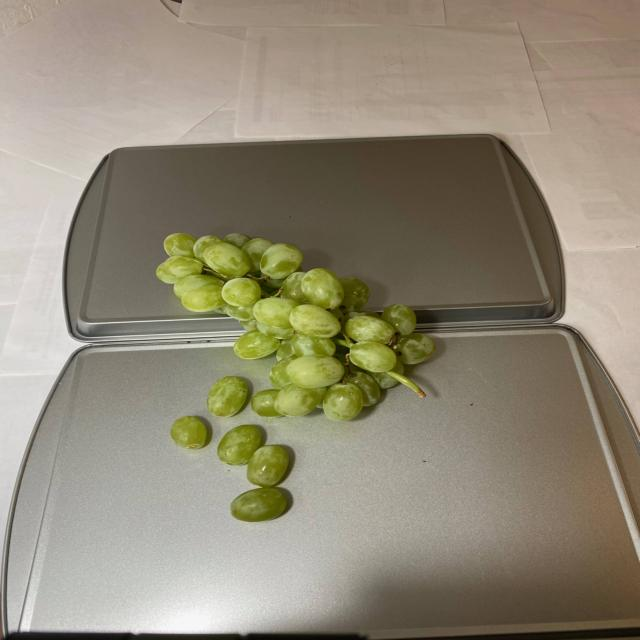Grapes: (152, 230, 436, 519)
